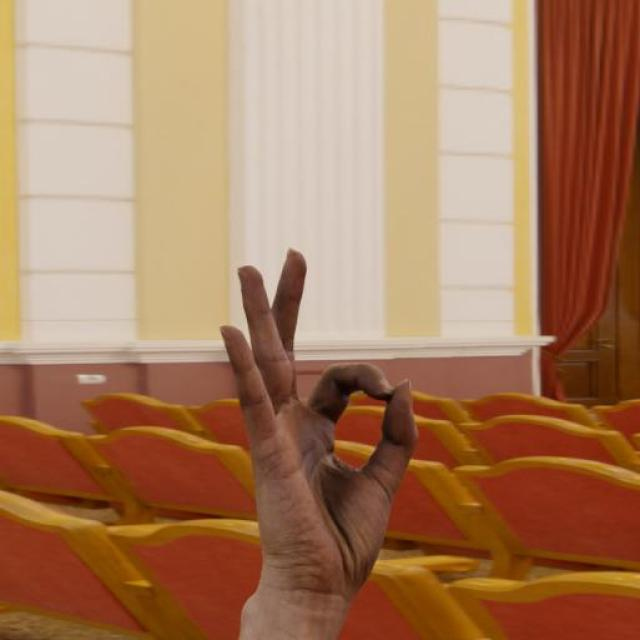F: (215, 242, 424, 600)
